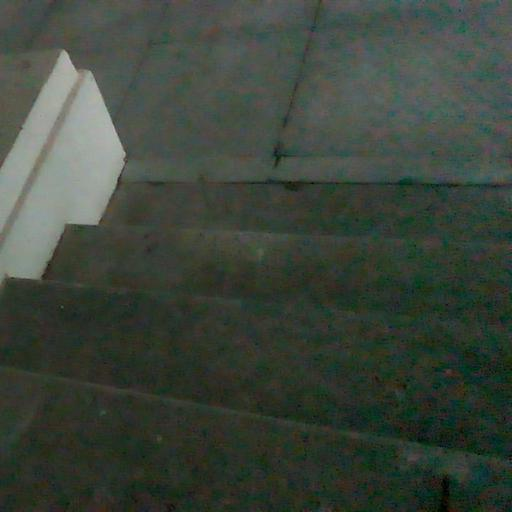Stairs: (0, 182, 512, 512)
